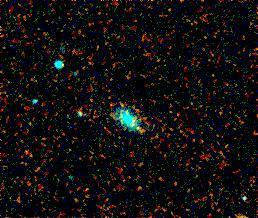star: (123, 112, 153, 142)
